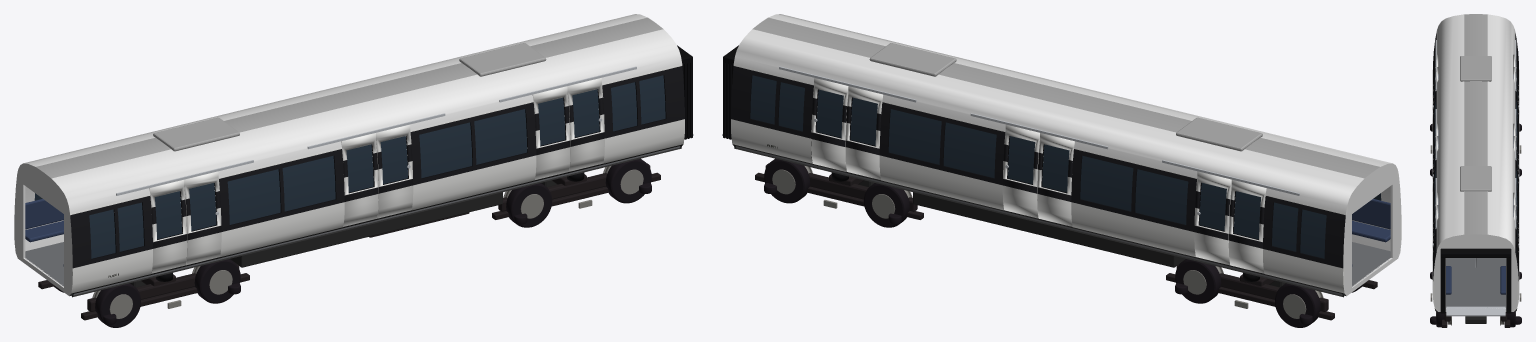
The model's file is mp89_car.glb.
3 renders of one model, left to right at view 1: azimuth 30°, elevation 25°; view 2: azimuth 150°, elevation 25°; view 3: azimuth 270°, elevation 25°, orthographic. The views are drawn at different scales.
Visible parts, largest first — view 1: mp89_car_neutral; view 2: mp89_car_neutral; view 3: mp89_car_neutral.
Part boxes in pixels (x1,y1,x2,y2): mp89_car_neutral: (14, 14, 693, 327); mp89_car_neutral: (722, 14, 1401, 327); mp89_car_neutral: (1430, 14, 1521, 327).
Size of the model in its own units: 15.2 by 3.47 by 2.6.
5 materials, 3 textured.
